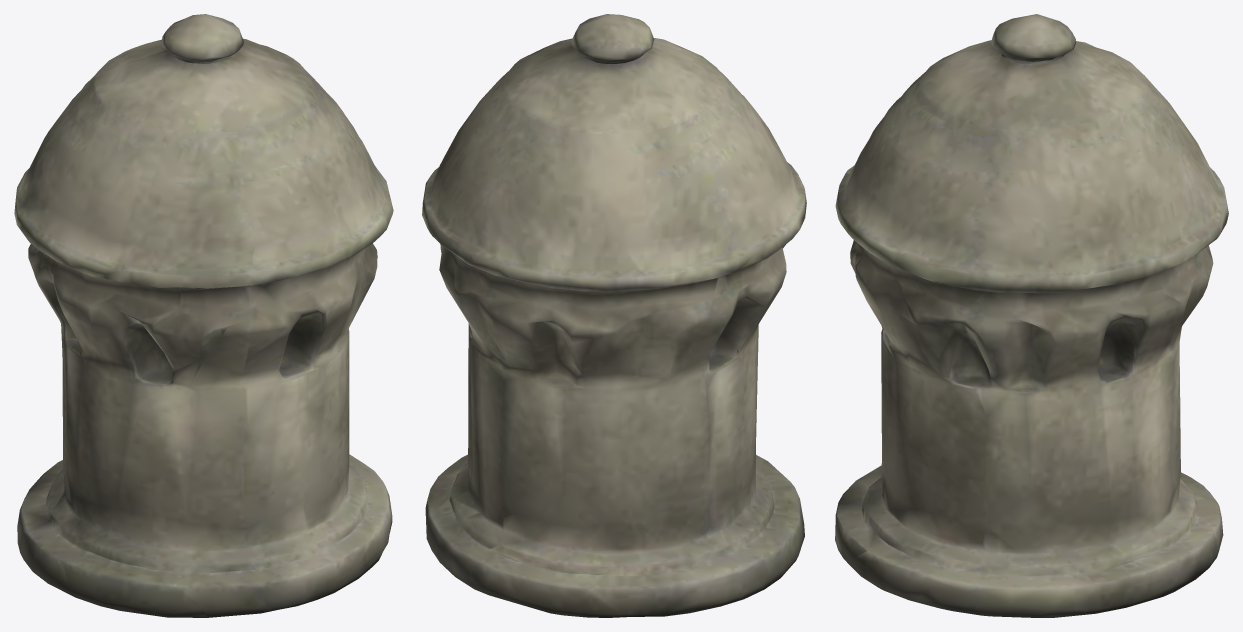
The model's file is ornate-limestone-turret-top-v001.glb.
The picture shows the model from 3 angles, left to right: view 1: azimuth 30°, elevation 25°; view 2: azimuth 150°, elevation 25°; view 3: azimuth 270°, elevation 25°; orthographic projection.
Parts seen in each view (by area): view 1: ornate-limestone-turret-top; view 2: ornate-limestone-turret-top; view 3: ornate-limestone-turret-top.
Part boxes in pixels (<box>): ornate-limestone-turret-top: <box>14,14,393,617</box>; ornate-limestone-turret-top: <box>422,14,806,617</box>; ornate-limestone-turret-top: <box>835,14,1228,617</box>.
Bounding box in the file's own units: 1.32 × 2.03 × 1.36.
Materials: 1 (1 with a texture image).
